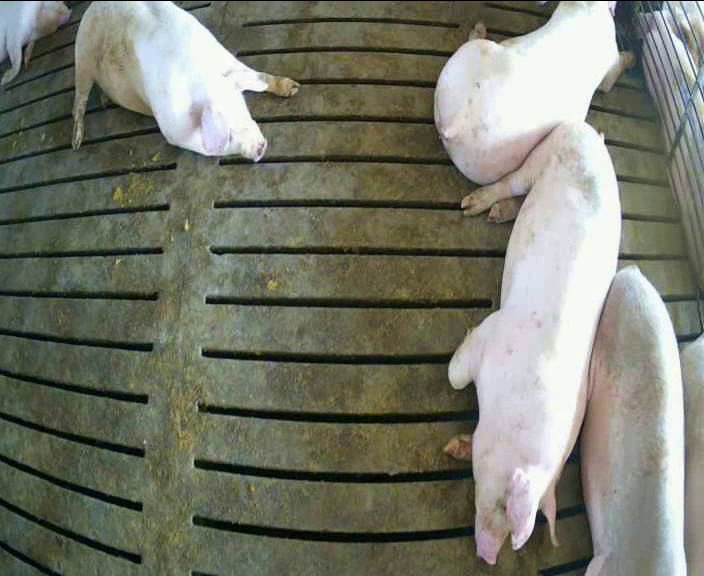pig: (443, 122, 616, 563), (72, 2, 297, 160), (581, 267, 683, 574)
